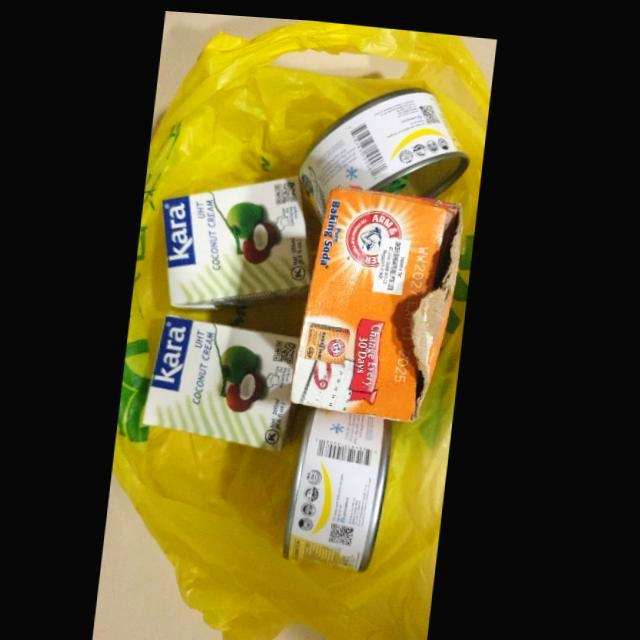aluminum: (300, 80, 472, 217), (291, 400, 399, 566)
cardboard: (296, 179, 467, 415)
